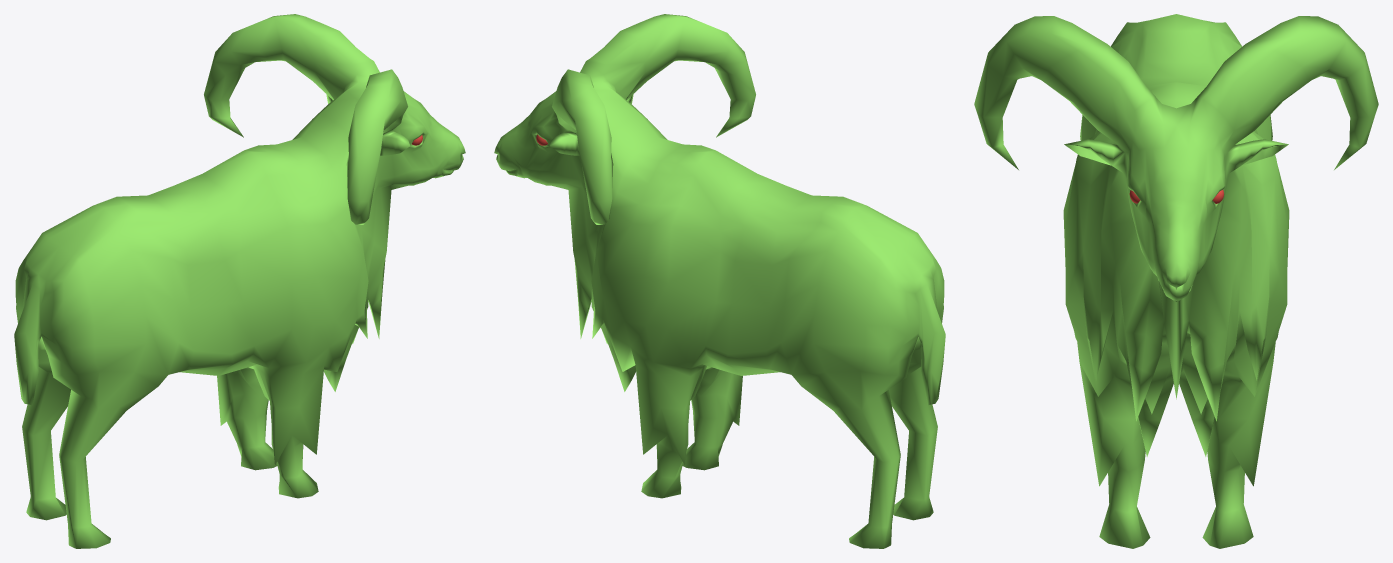
Rendered from lammasfixed.fbx.
3 renders of one model, left to right at view 1: azimuth 30°, elevation 25°; view 2: azimuth 150°, elevation 25°; view 3: azimuth 270°, elevation 25°, orthographic. The views are drawn at different scales.
Visible parts, largest first — view 1: lammas; view 2: lammas; view 3: lammas.
Boxes of the visible parts, x1,y1,x2,y2 form: lammas: (14,14,465,548); lammas: (494,14,945,548); lammas: (974,14,1378,548).
Size of the model in its own units: 409 by 361 by 242.
